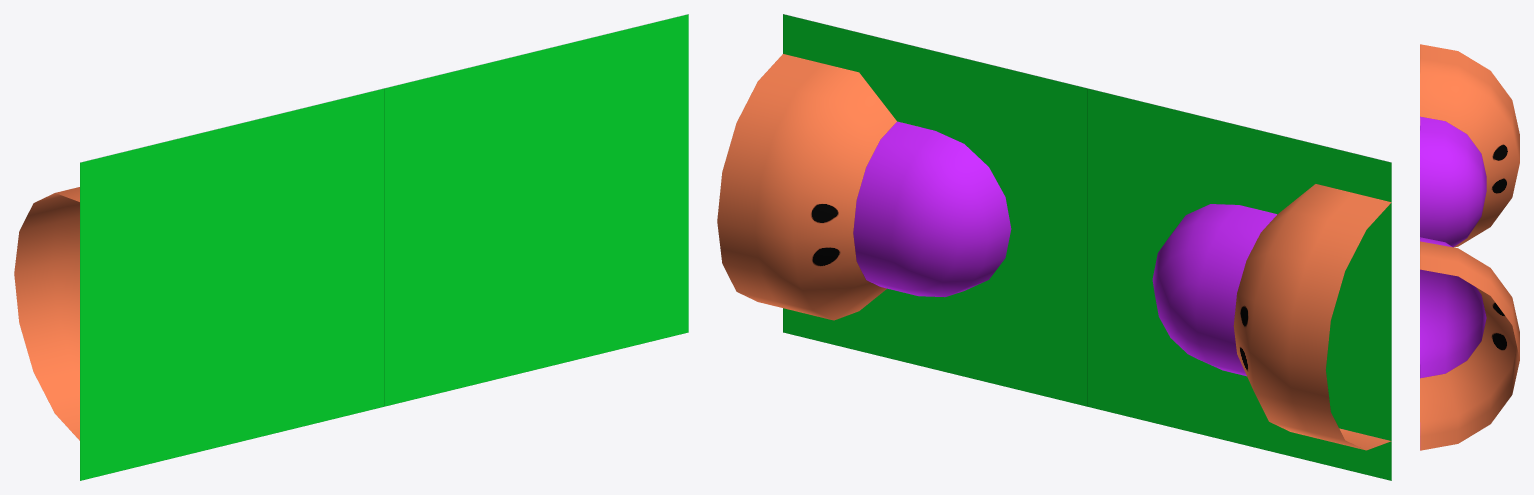
File: 1x2_Dbl.fbx
3 renders of one model, left to right at view 1: azimuth 30°, elevation 25°; view 2: azimuth 150°, elevation 25°; view 3: azimuth 270°, elevation 25°, orthographic. The views are drawn at different scales.
Parts seen in each view (by area): view 1: Panel_1x2_Dbl_End; view 2: Panel_1x2_Dbl_End; view 3: Panel_1x2_Dbl_End.
Boxes of the visible parts, bbox=[...] form: Panel_1x2_Dbl_End: bbox=[14, 14, 688, 480]; Panel_1x2_Dbl_End: bbox=[717, 14, 1391, 480]; Panel_1x2_Dbl_End: bbox=[1420, 44, 1519, 450].
Size of the model in its own units: 200 by 100 by 37.5.
